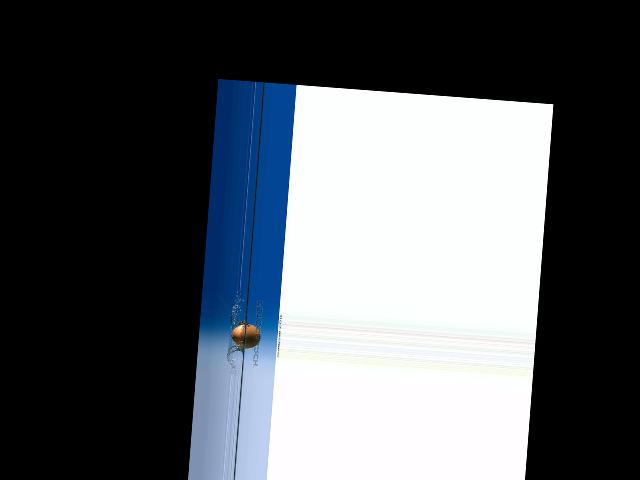egg: (230, 323, 261, 349)
